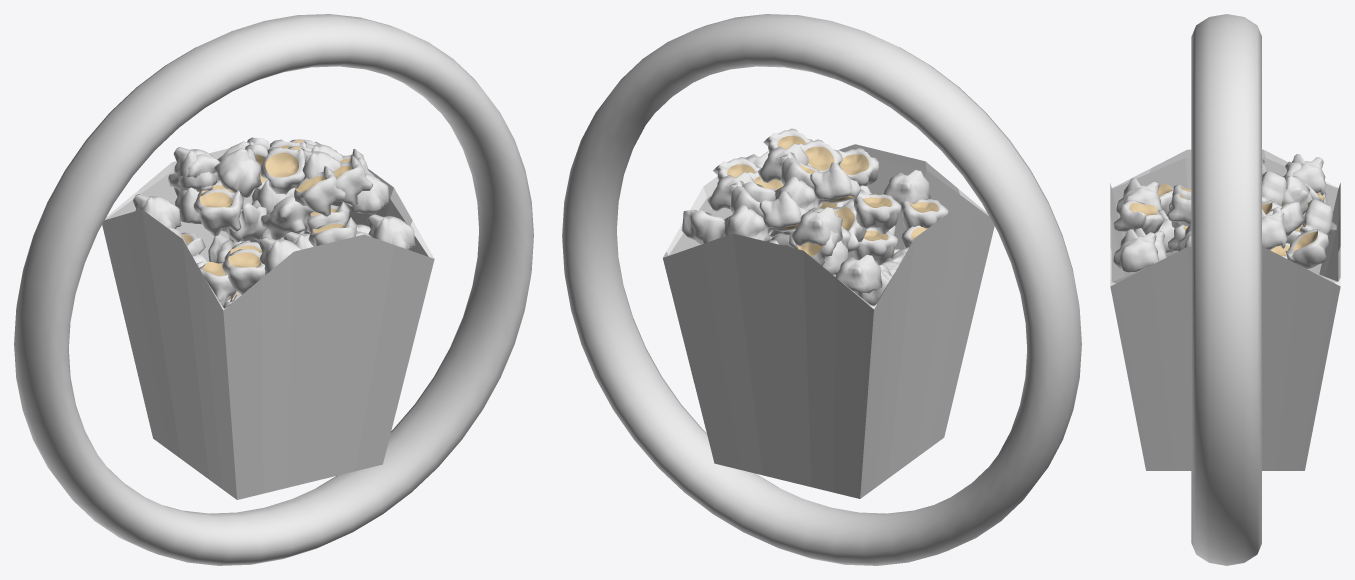
Rendered from icono_cine.fbx.
3 views of the same model, side by side, from view 1: azimuth 30°, elevation 25°; view 2: azimuth 150°, elevation 25°; view 3: azimuth 270°, elevation 25° (orthographic). The views are drawn at different scales.
Parts seen in each view (by area): view 1: Sphere.056, Torus.005; view 2: Sphere.056, Torus.005; view 3: Sphere.056, Torus.005.
Part boxes in pixels (<box>): Sphere.056: <box>102,137,434,499</box>; Torus.005: <box>14,14,533,565</box>; Sphere.056: <box>663,128,994,498</box>; Torus.005: <box>562,14,1081,565</box>; Sphere.056: <box>1110,149,1340,470</box>; Torus.005: <box>1191,14,1261,565</box>.
Size of the model in its own units: 27.34 by 27.34 by 11.4.
